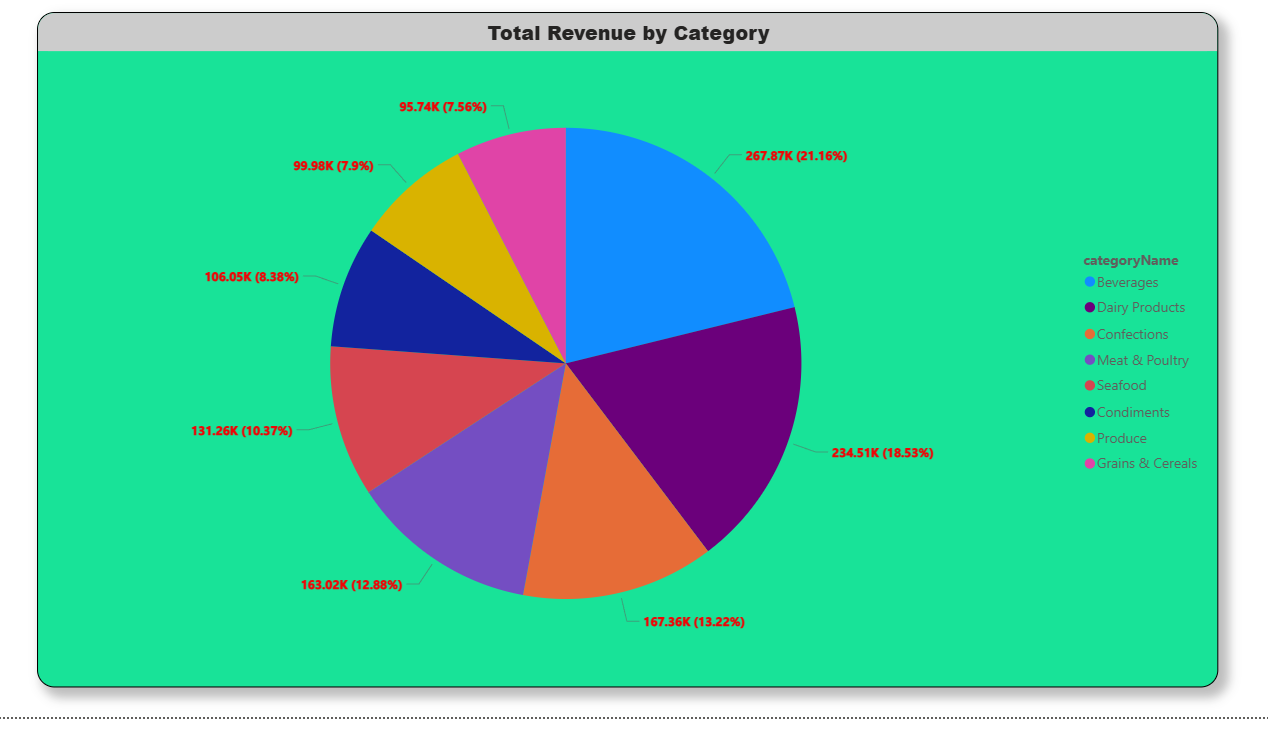

The page's visual inventory and layout, read from the dashboard file:
{"tool":"powerbi","page":{"name":"Deep Dive – Category Profitability","canvas":[1280,720],"ordinal":4},"visuals":[{"type":"pieChart","title":"Total Revenue by Category","fields":{"Category":["categories.categoryName"],"Y":["Sum(order_details.Total Sales)"]},"box":[69.1,34,1148.7,656.5],"z":0}]}

Visuals, with their boxes in screenshot pixels (x1, y1, x2, y2), scaled from the page's 1280x720 canvas onto the 1268x735 screenshot:
"Total Revenue by Category" pieChart: BBox(68, 35, 1206, 705)
